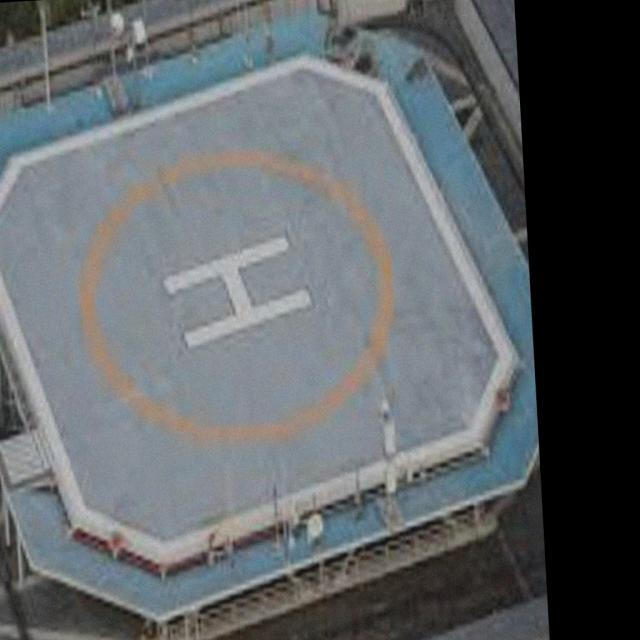helipad: (73, 140, 401, 450)
